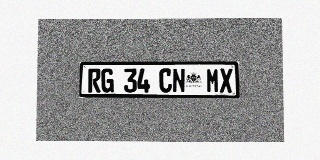3: (124, 68, 137, 93)
4: (137, 68, 150, 93)
C: (159, 68, 172, 93)
G: (101, 68, 114, 92)
M: (206, 68, 219, 93)
N: (172, 68, 185, 93)
R: (88, 68, 101, 92)
X: (220, 68, 233, 93)
